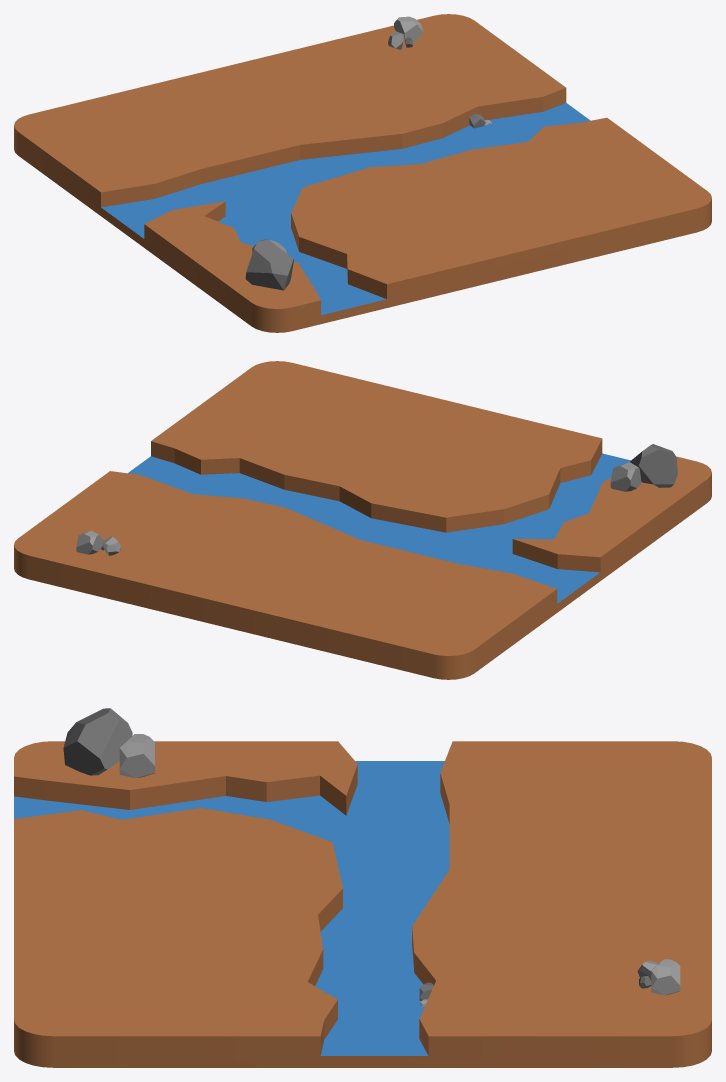
File: ground-with-river.glb
3 renders of one model, top to bottom at view 1: azimuth 30°, elevation 25°; view 2: azimuth 150°, elevation 25°; view 3: azimuth 270°, elevation 25°, orthographic. The views are drawn at different scales.
Visible parts, largest first — view 1: Plane; view 2: Plane; view 3: Plane.
Boxes of the visible parts, x1=… form: Plane: x1=14, y1=14, x2=711, y2=332; Plane: x1=14, y1=361, x2=711, y2=679; Plane: x1=14, y1=708, x2=711, y2=1067.
Size of the model in its own units: 20 by 2.65 by 20.
